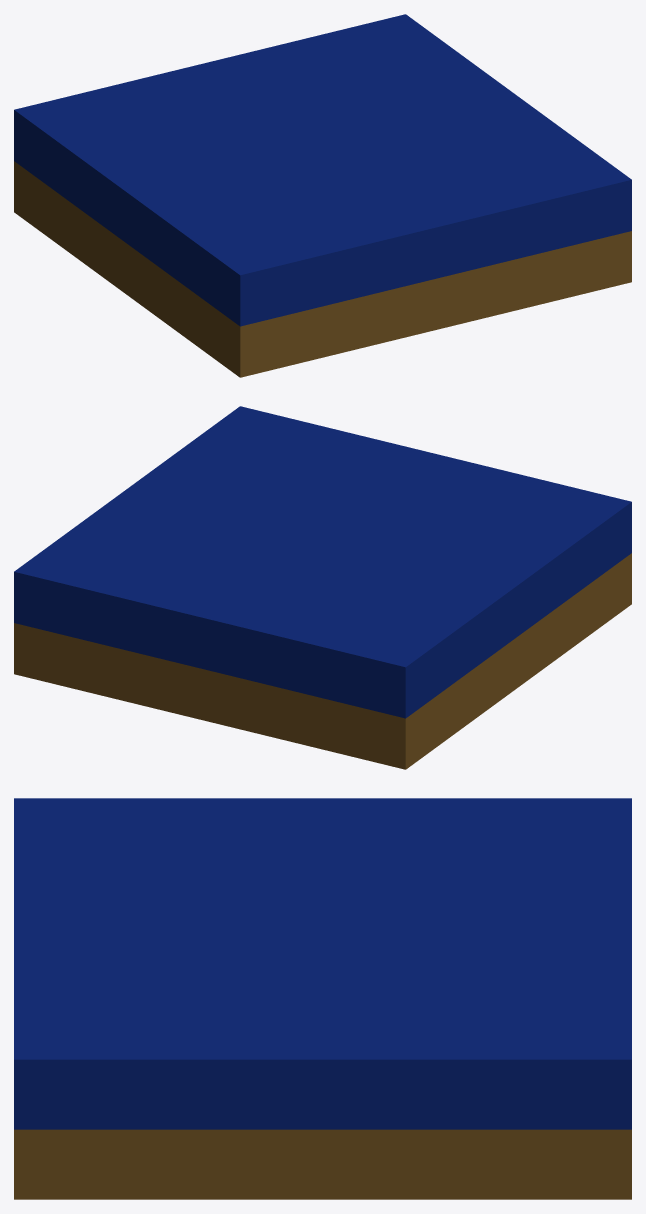
The model's file is End_tile.glb.
The picture shows the model from 3 angles, top to bottom: view 1: azimuth 30°, elevation 25°; view 2: azimuth 150°, elevation 25°; view 3: azimuth 270°, elevation 25°; orthographic projection. The views are drawn at different scales.
Visible parts, largest first — view 1: Cube; view 2: Cube; view 3: Cube.
Boxes of the visible parts, left/top/right/bottom form: Cube: left=14, top=14, right=631, bottom=377; Cube: left=14, top=406, right=631, bottom=769; Cube: left=14, top=798, right=631, bottom=1199.
Size of the model in its own units: 2 by 0.5 by 2.
